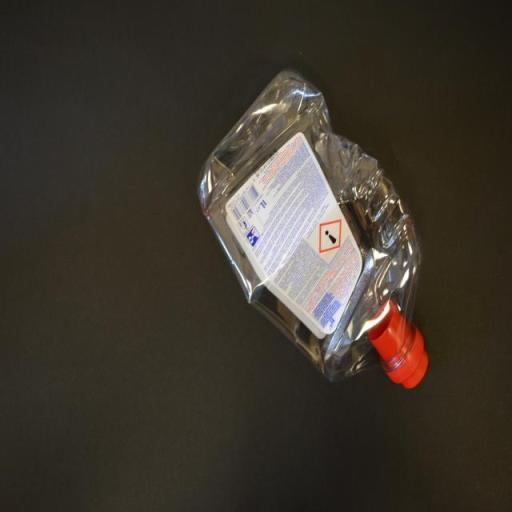plastic: (200, 63, 428, 394)
